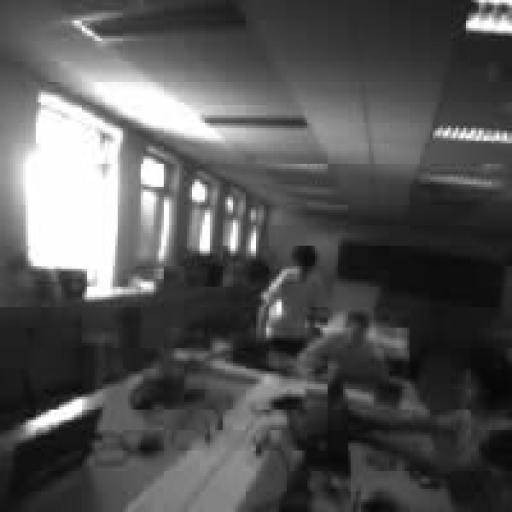human: (349, 356, 511, 511), (256, 246, 330, 355), (297, 310, 389, 383)
